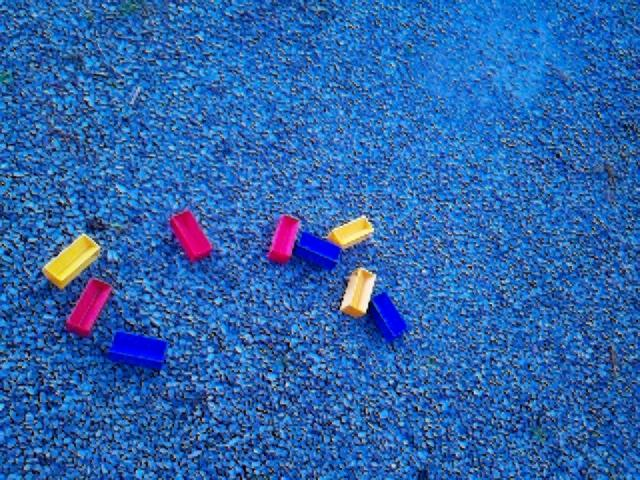blue: (107, 330, 169, 371), (369, 292, 408, 343), (294, 231, 342, 270)
red: (64, 278, 113, 338), (170, 210, 213, 263), (267, 214, 300, 265)
yellow: (42, 234, 102, 290), (340, 268, 377, 318), (328, 216, 375, 249)
